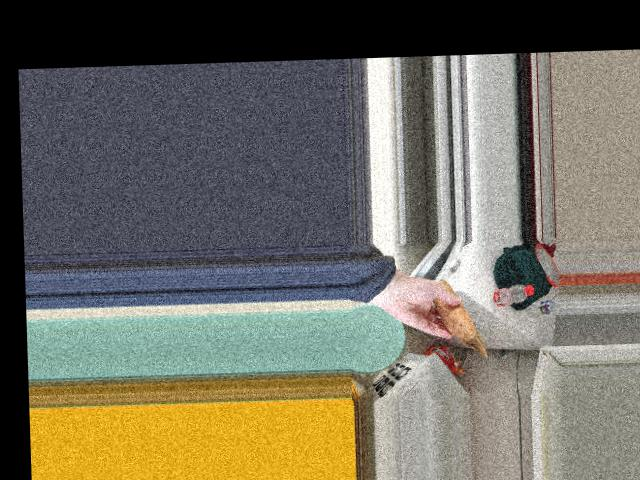sweet_potato: (434, 290, 474, 339)
